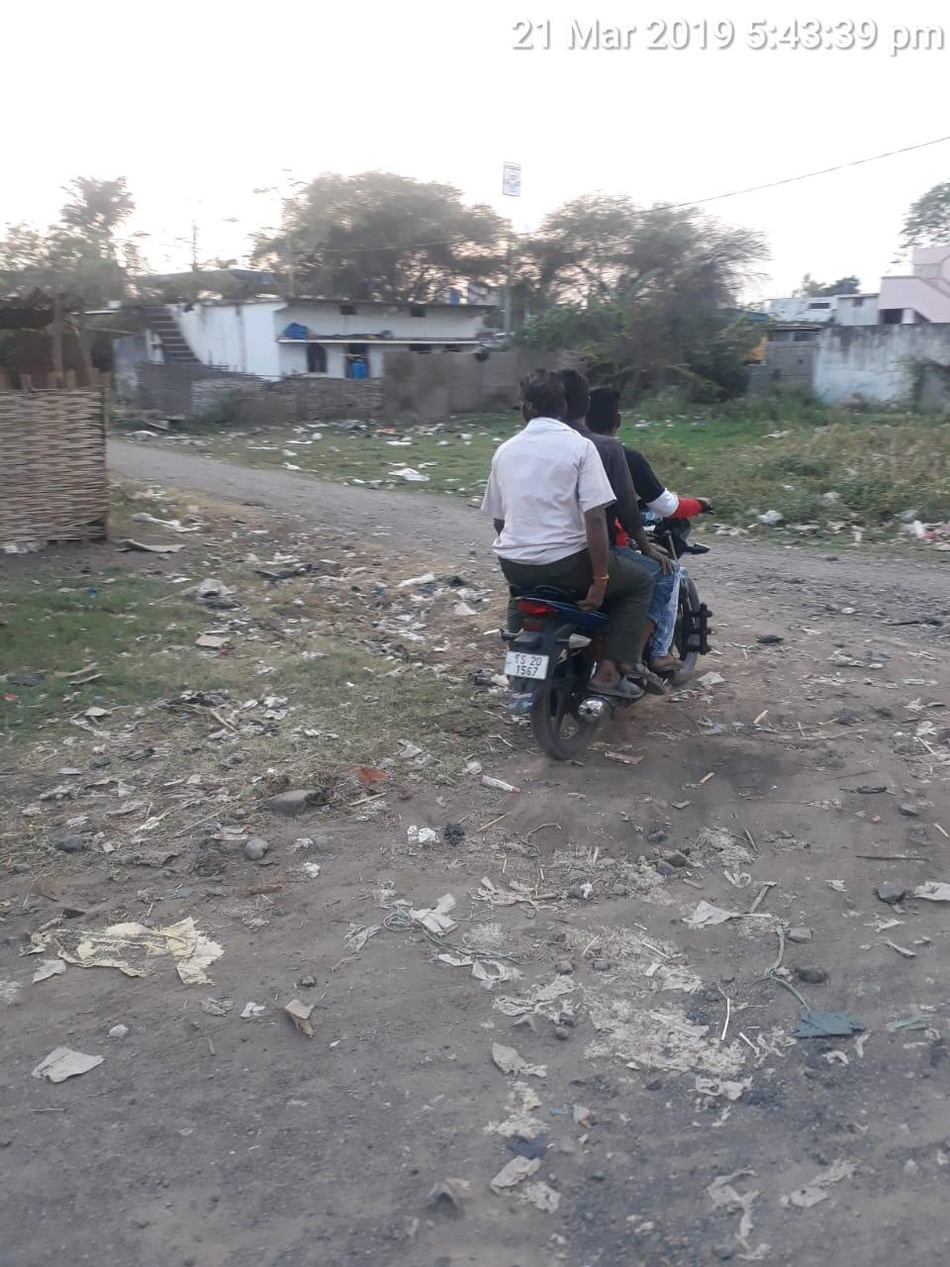plate: (498, 646, 553, 685)
